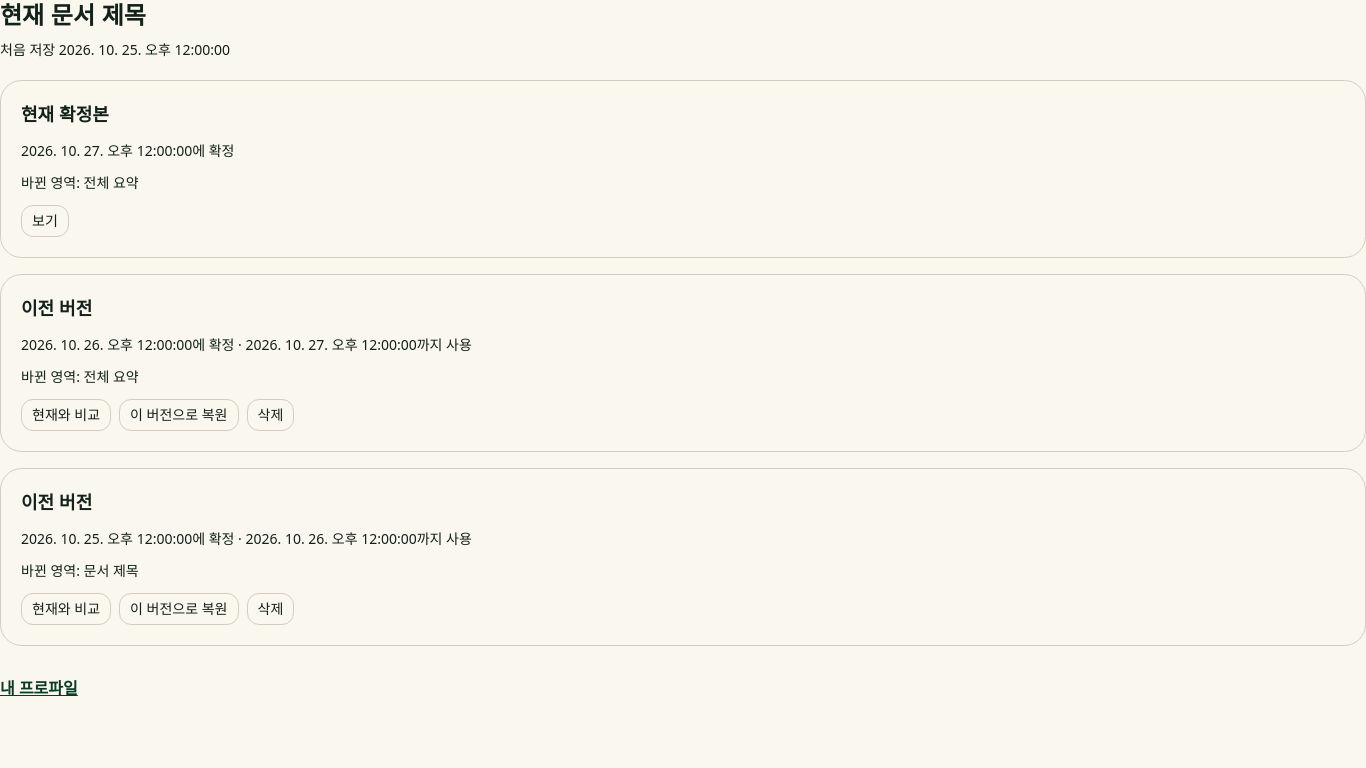
Scenario: deletes only the confirmed historical entry after confirmation
The image size is (1366, 768).
Click the 1st button "삭제". click: (270, 415)
box: [246,399,294,431]
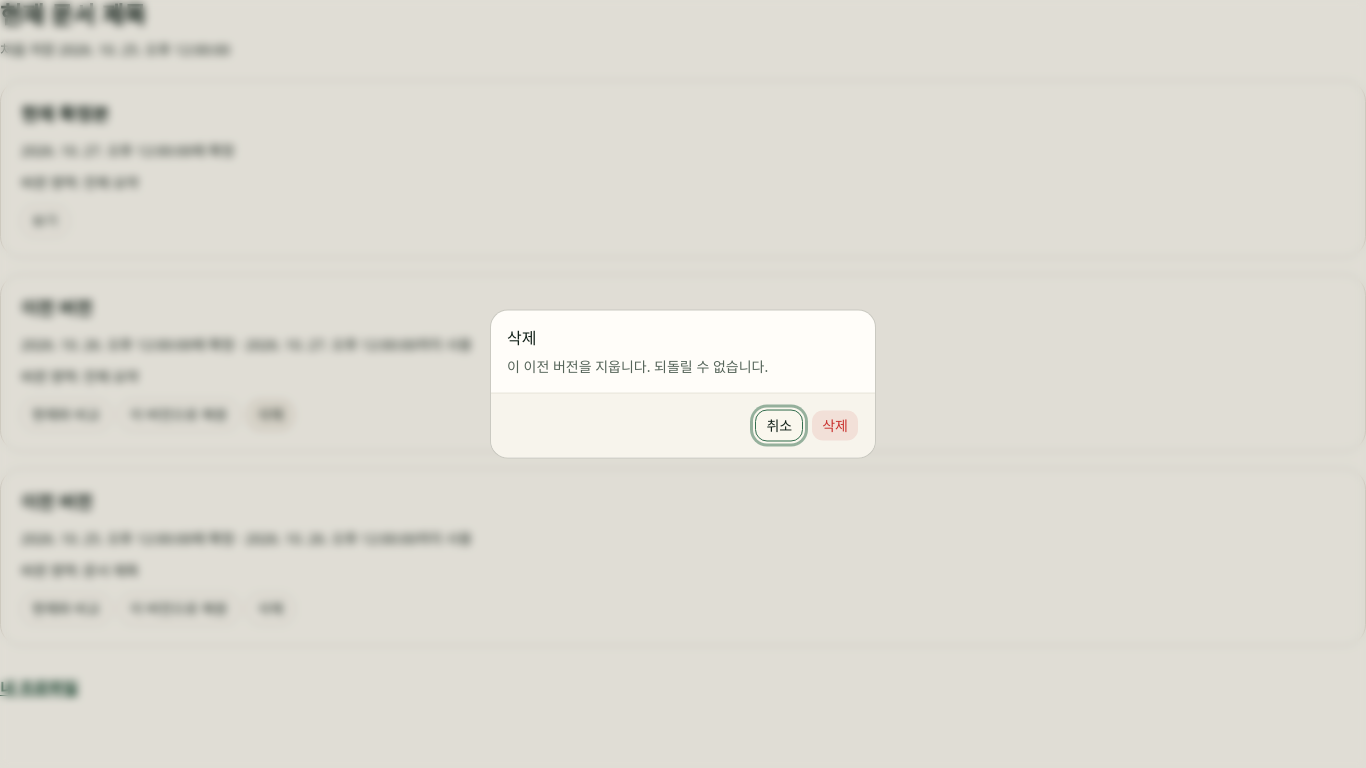
Now the dialog shows "이 이전 버전을 지웁니다. 되돌릴 수 없습니다.", box [507,356,768,376]
Click the button "삭제". click: (835, 426)
box: [811,410,859,442]
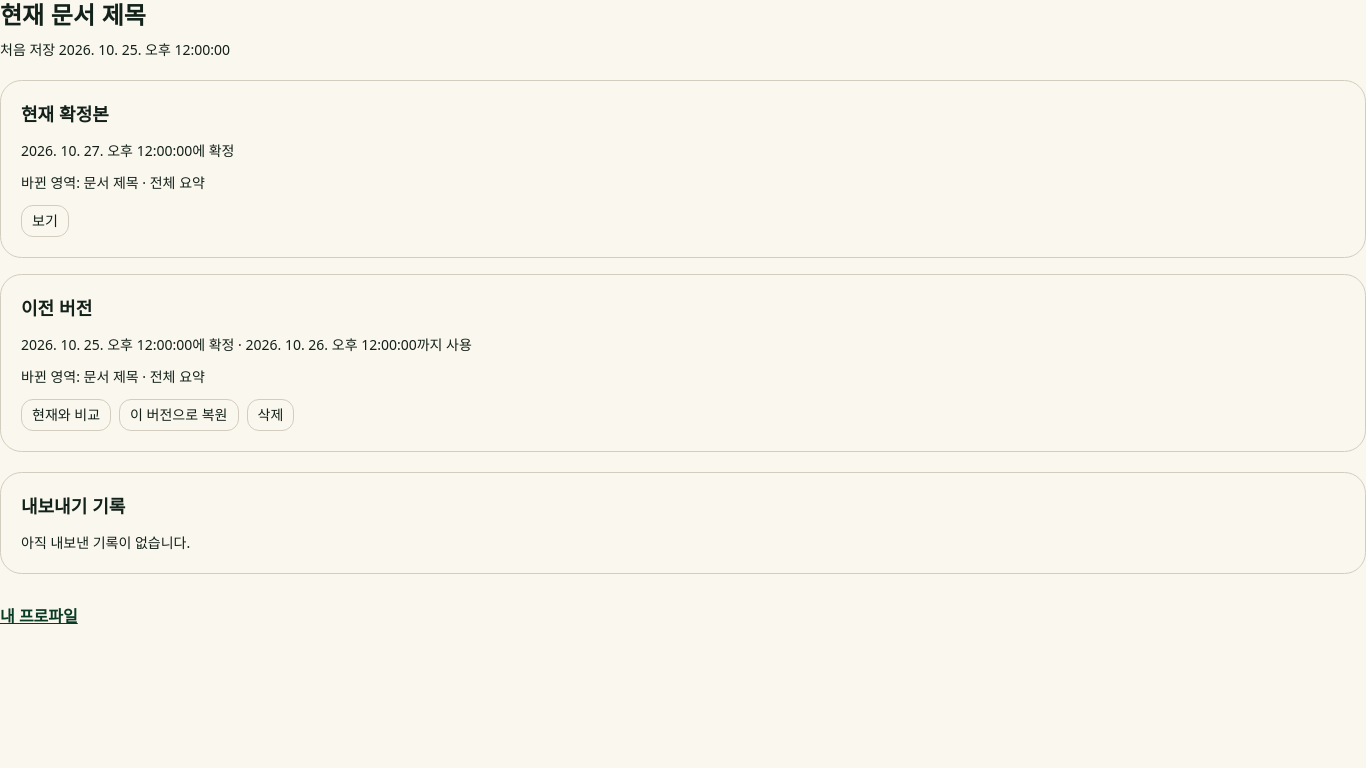
Now the number of list items is 2, box [0,80,1365,258]; [0,274,1365,452]
